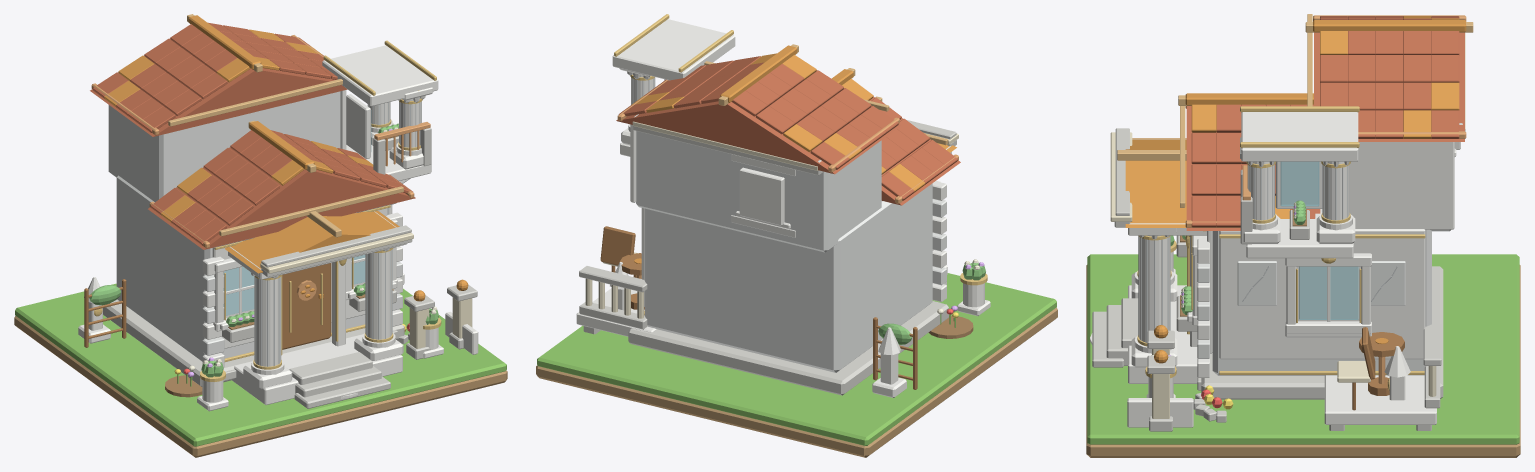
The model's file is villa_l03_active_LOD0.glb.
3 renders of one model, left to right at view 1: azimuth 30°, elevation 25°; view 2: azimuth 150°, elevation 25°; view 3: azimuth 270°, elevation 25°, orthographic. The views are drawn at different scales.
Visible parts, largest first — view 1: villa_grass_tile, villa_l01_active_v2_marble_core, villa_l03_active_rear_upper_shell, villa_l03_active_front_slope_gable_roof, villa_earth_tile, villa_l03_active_rear_upper_gable_roof, villa_l03_active_wide_portico_roof_gable_roof, villa_l03_active_balcony_flat_roof, villa_l01_active_v2_entry_door, villa_l01_active_v2_base_stone_block_low_medium_foundation, villa_l03_active_wide_porch, villa_l03_active_wide_column_-1_shaft (+26 smaller); view 2: villa_l01_active_v2_marble_core, villa_grass_tile, villa_l03_active_rear_upper_shell, villa_l01_active_v2_base_stone_block_low_medium_foundation, villa_earth_tile, villa_l03_active_rear_upper_gable_roof, villa_l03_active_balcony_flat_roof, villa_l03_active_rear_upper_window_window_frame, villa_l03_active_chair_back, villa_l03_active_rear_upper_gold_ridge, villa_l03_active_rear_upper_cornice_course_1, villa_l03_active_rear_upper_cornice_course_0 (+10 smaller); view 3: villa_grass_tile, villa_l01_active_v2_right_marble_cladding, villa_l03_active_rear_upper_right_cladding, villa_earth_tile, villa_l03_active_balcony_flat_roof, villa_l03_active_wide_portico_roof_gable_roof, villa_l03_active_terrace_deck, villa_l01_active_v2_base_stone_block_low_medium_foundation, villa_l01_active_v2_marble_core, villa_l01_active_v2_side_window_frame, villa_l01_active_v2_side_window_glass, villa_l03_active_wide_column_1_shaft (+69 smaller).
Part boxes in pixels (bbox=[...]): villa_grass_tile: bbox=[15, 283, 506, 446]; villa_l01_active_v2_marble_core: bbox=[116, 175, 389, 361]; villa_l03_active_rear_upper_shell: bbox=[108, 91, 340, 201]; villa_l03_active_front_slope_gable_roof: bbox=[148, 147, 415, 249]; villa_earth_tile: bbox=[14, 316, 507, 457]; villa_l03_active_rear_upper_gable_roof: bbox=[90, 38, 347, 136]; villa_l03_active_wide_portico_roof_gable_roof: bbox=[224, 211, 399, 273]; villa_l03_active_balcony_flat_roof: bbox=[322, 45, 438, 106]; villa_l01_active_v2_entry_door: bbox=[282, 263, 331, 349]; villa_l01_active_v2_base_stone_block_low_medium_foundation: bbox=[103, 299, 404, 386]; villa_l03_active_wide_porch: bbox=[232, 334, 402, 404]; villa_l03_active_wide_column_-1_shaft: bbox=[254, 277, 280, 366]; villa_l01_active_v2_marble_core: bbox=[644, 183, 932, 372]; villa_grass_tile: bbox=[537, 273, 1056, 445]; villa_l03_active_rear_upper_shell: bbox=[636, 131, 881, 252]; villa_l01_active_v2_base_stone_block_low_medium_foundation: bbox=[628, 301, 948, 395]; villa_earth_tile: bbox=[536, 307, 1057, 457]; villa_l03_active_rear_upper_gable_roof: bbox=[616, 70, 901, 174]; villa_l03_active_balcony_flat_roof: bbox=[612, 19, 735, 80]; villa_l03_active_rear_upper_window_window_frame: bbox=[739, 167, 784, 225]; villa_l03_active_chair_back: bbox=[600, 226, 635, 265]; villa_l03_active_rear_upper_gold_ridge: bbox=[720, 45, 797, 102]; villa_l03_active_rear_upper_cornice_course_1: bbox=[632, 121, 818, 170]; villa_l03_active_rear_upper_cornice_course_0: bbox=[633, 126, 823, 175]; villa_grass_tile: bbox=[1087, 254, 1519, 444]; villa_l01_active_v2_right_marble_cladding: bbox=[1219, 229, 1425, 359]; villa_l03_active_rear_upper_right_cladding: bbox=[1349, 142, 1454, 229]; villa_earth_tile: bbox=[1086, 265, 1520, 457]; villa_l03_active_balcony_flat_roof: bbox=[1241, 112, 1358, 161]; villa_l03_active_wide_portico_roof_gable_roof: bbox=[1125, 138, 1186, 227]; villa_l03_active_terrace_deck: bbox=[1324, 375, 1436, 424]; villa_l01_active_v2_base_stone_block_low_medium_foundation: bbox=[1201, 266, 1443, 399]; villa_l01_active_v2_marble_core: bbox=[1212, 209, 1431, 375]; villa_l01_active_v2_side_window_frame: bbox=[1296, 266, 1360, 321]; villa_l01_active_v2_side_window_glass: bbox=[1299, 266, 1358, 319]; villa_l03_active_wide_column_1_shaft: bbox=[1139, 235, 1169, 342].
Size of the model in its own units: 3.6 by 3.16 by 3.6.
